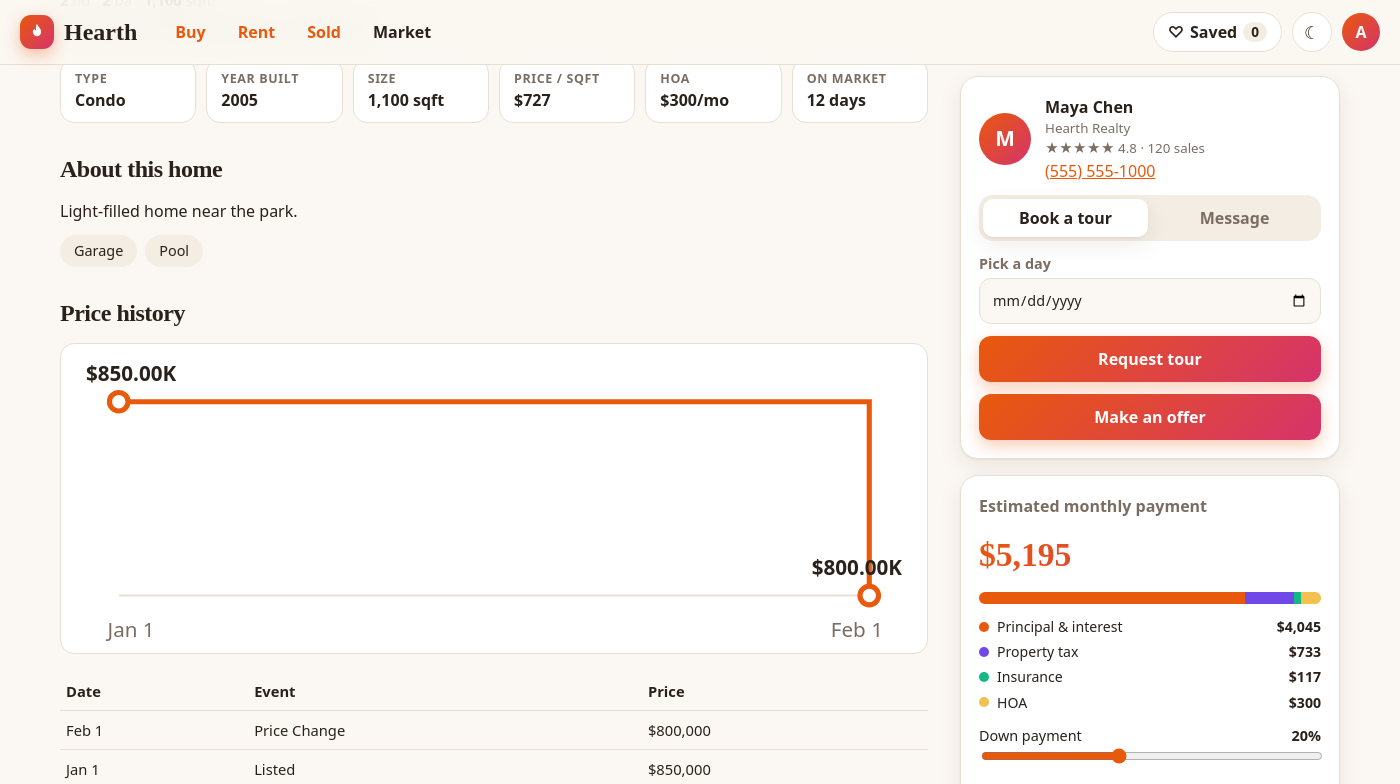
Test: accounts and offers (network stubbed) › offer wizard: 3 steps, posts the right payload, then links to activity
(page scrolled)
Click the button with test id "make-offer".
click(1150, 417)  # box [979, 394, 1321, 440]
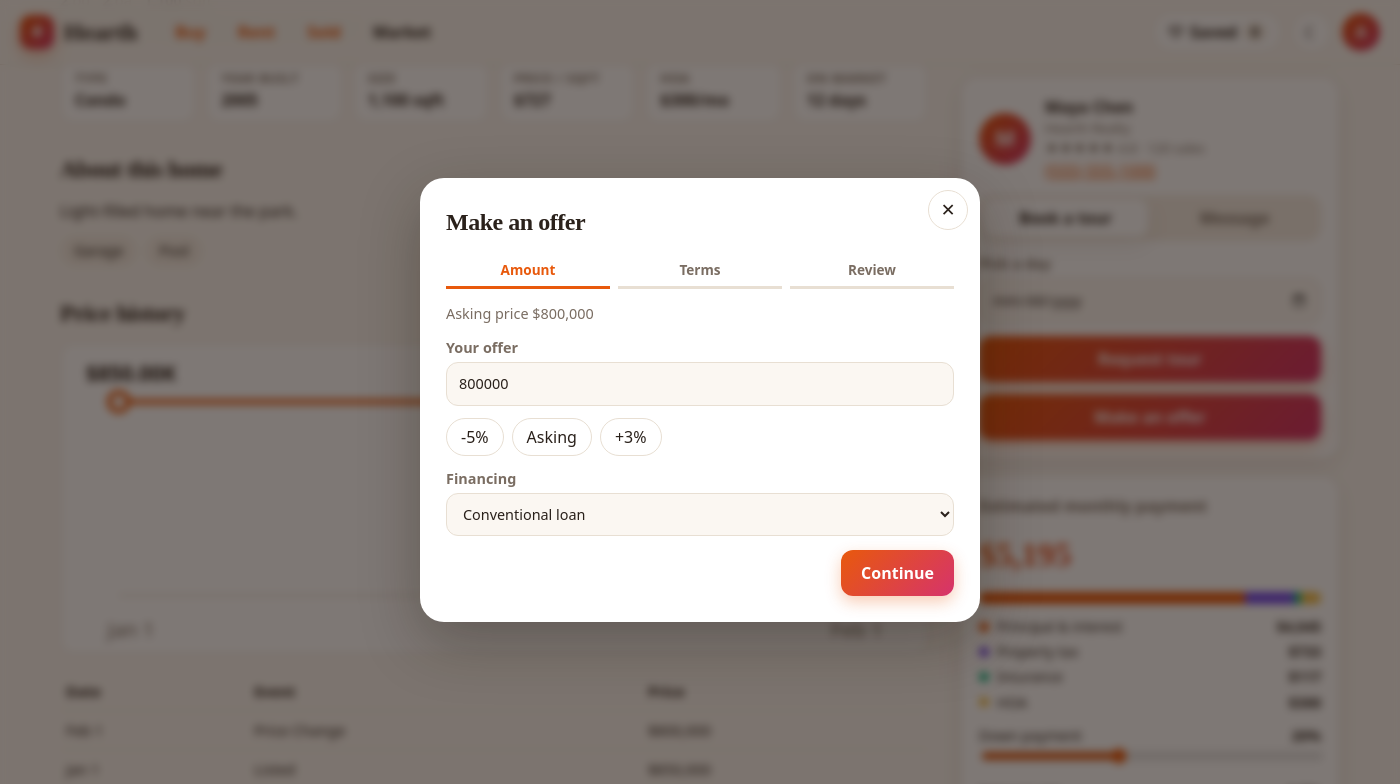
Replace the text in the number field with test id "offer-amount" with "780000" at (700, 384), box [446, 362, 954, 406]
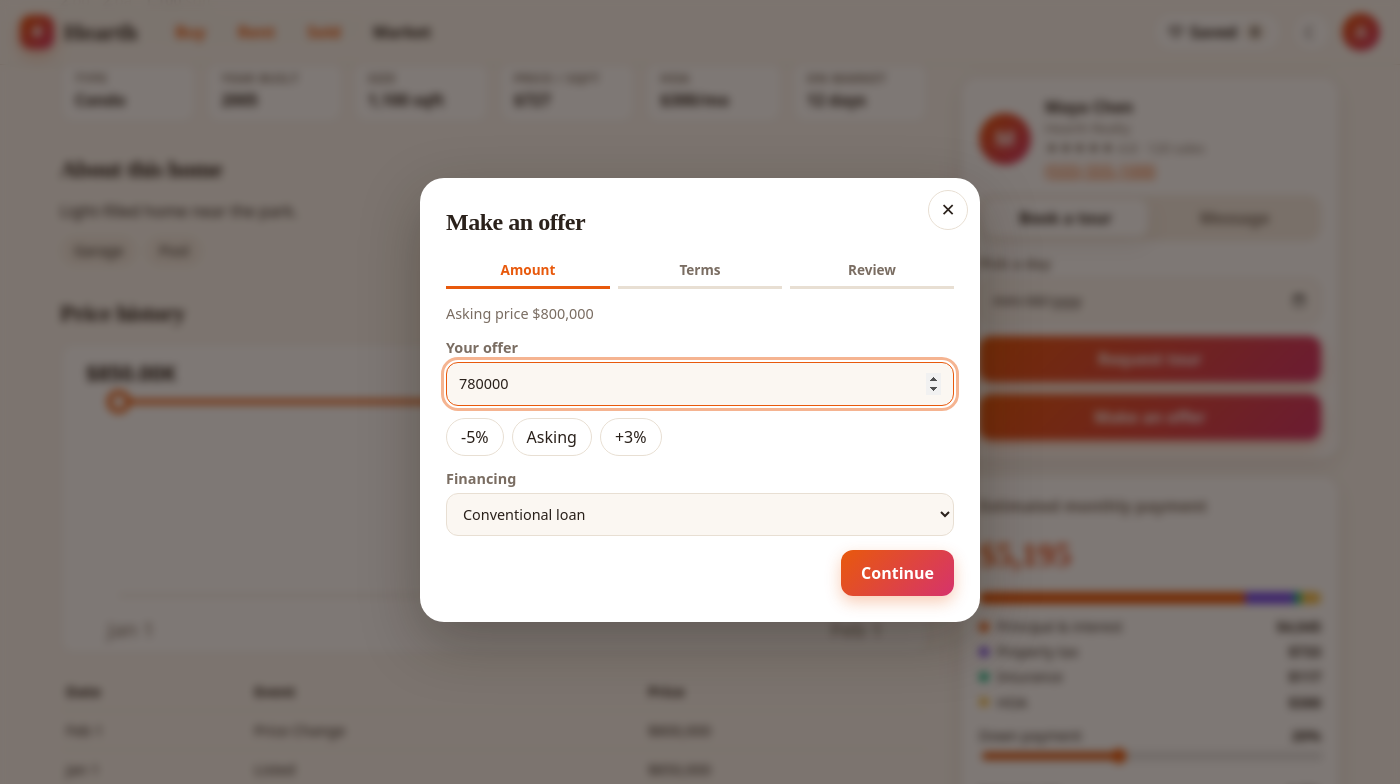
Click the button with test id "offer-next".
click(898, 573)  # box [841, 550, 954, 596]
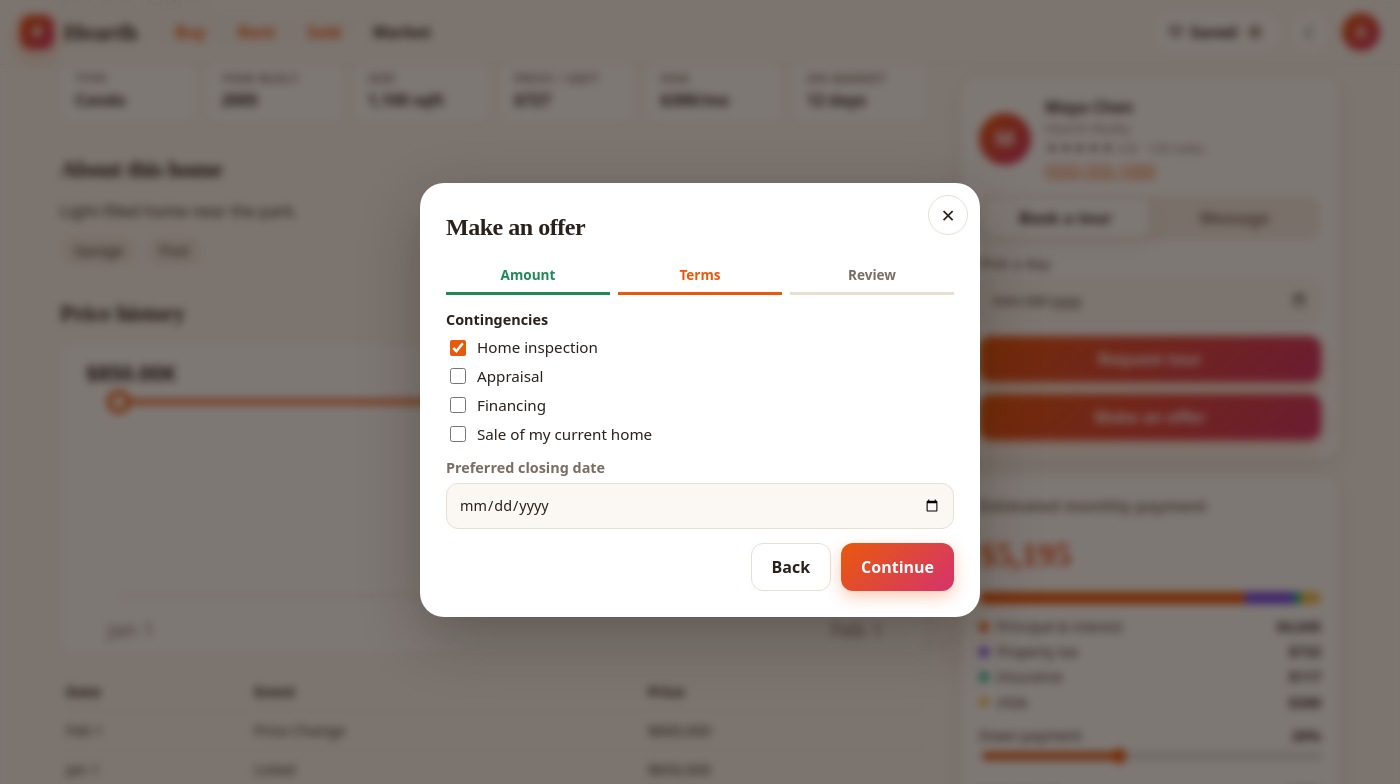
Check the checkbox labelled "Appraisal".
click(458, 377)  # box [450, 369, 466, 385]
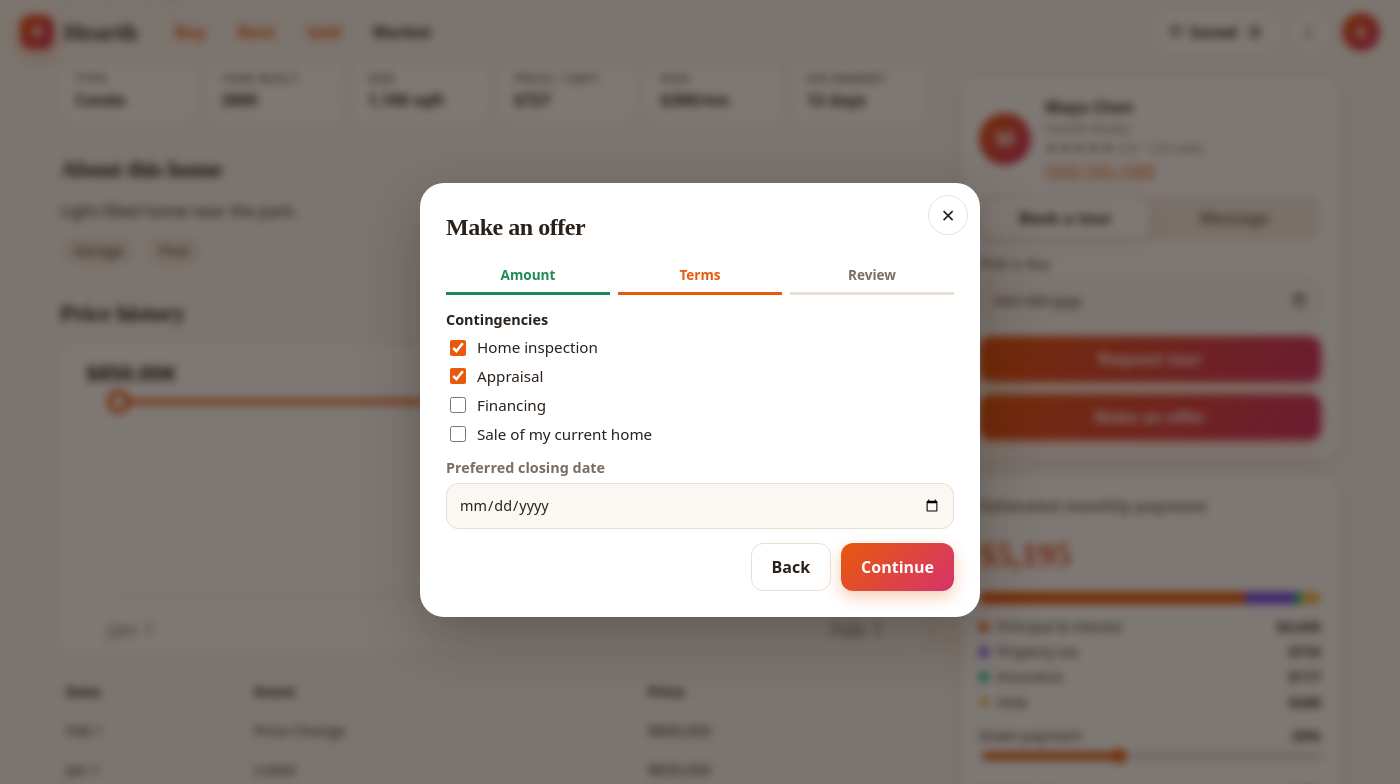
Click the button with test id "offer-next".
click(898, 567)  # box [841, 543, 954, 591]
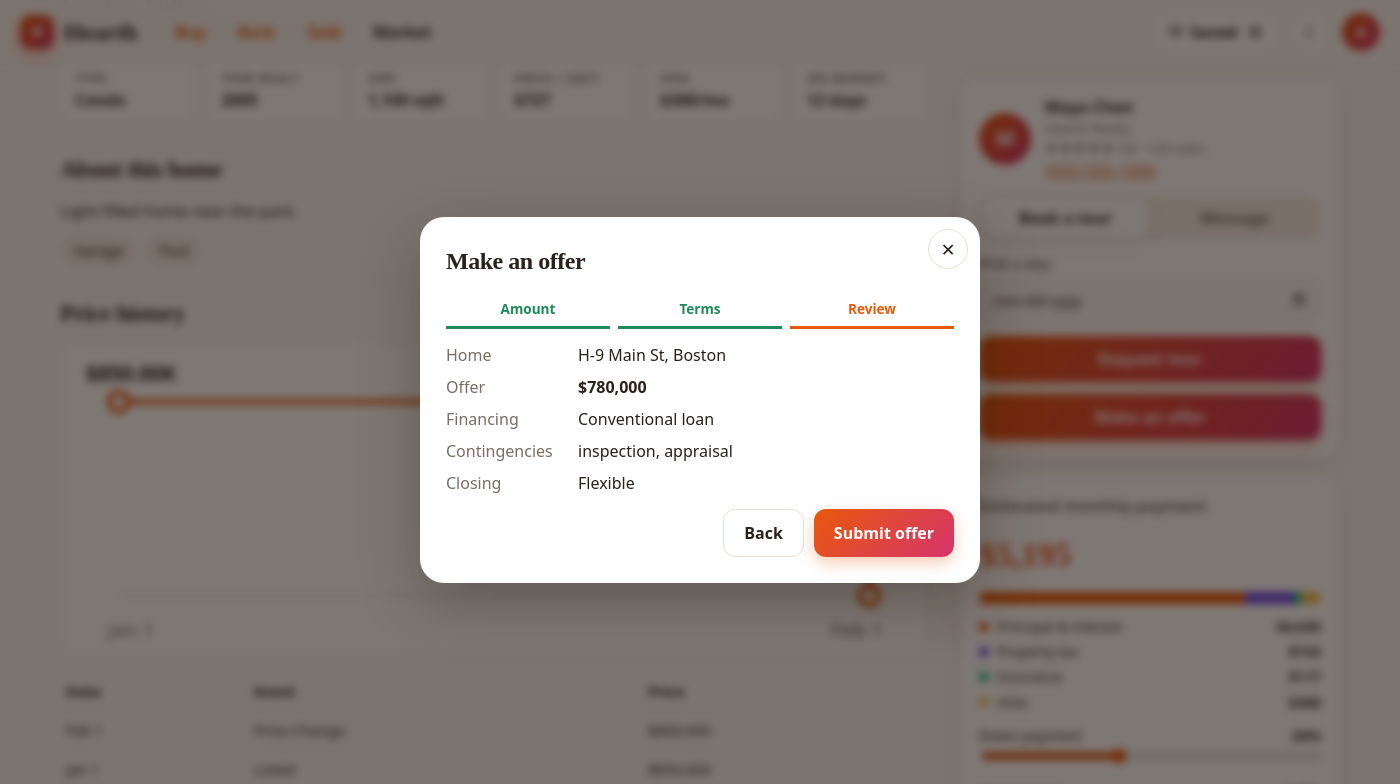
Check: the text "$780,000" is shown, box [578, 376, 647, 398]
Check: the text "inspection, appraisal" is shown, box [578, 440, 733, 462]
Click the button with test id "offer-submit".
click(884, 533)  # box [814, 509, 954, 557]
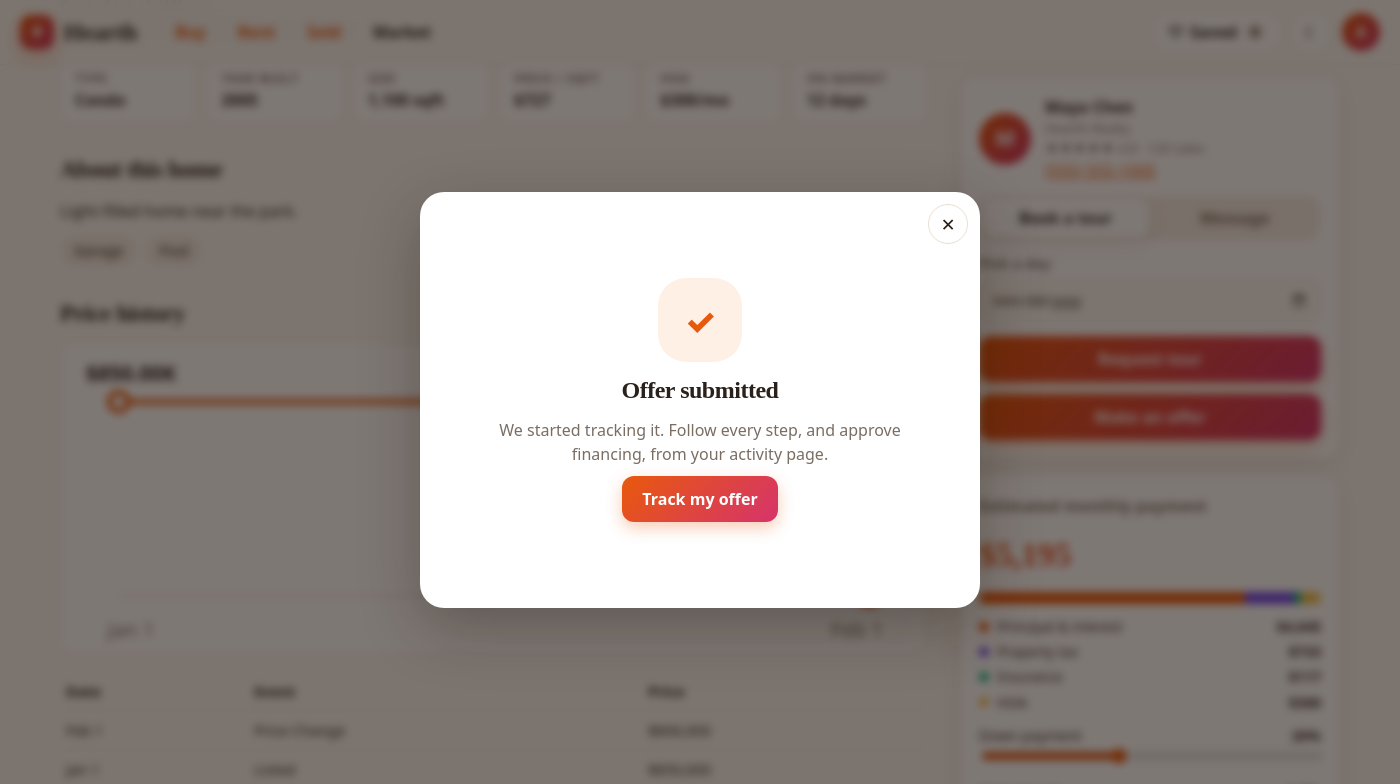
Check: the heading with test id "offer-done" reads "Offer submitted", box [621, 377, 778, 403]
